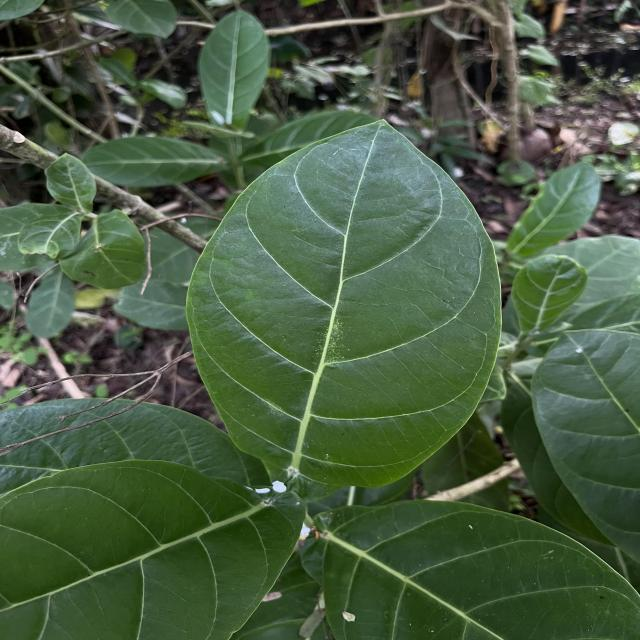Calotropis gigantea: (185, 114, 510, 497), (0, 453, 308, 640), (299, 493, 640, 640), (529, 322, 640, 560), (196, 9, 272, 133), (78, 134, 228, 189)
